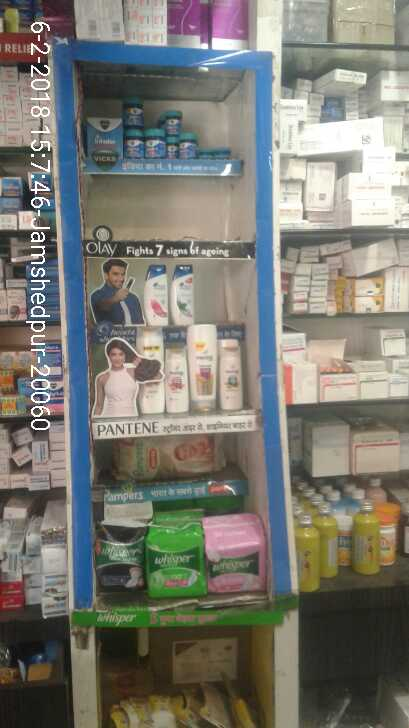beauty: (189, 321, 221, 411), (128, 334, 163, 411), (216, 342, 246, 414), (135, 264, 168, 326), (167, 345, 190, 418), (171, 263, 197, 322)
pharmacy: (142, 526, 203, 598), (202, 515, 256, 592), (95, 523, 142, 592), (173, 129, 200, 162), (119, 93, 145, 127), (121, 122, 141, 160), (141, 127, 161, 159), (160, 103, 179, 130)
